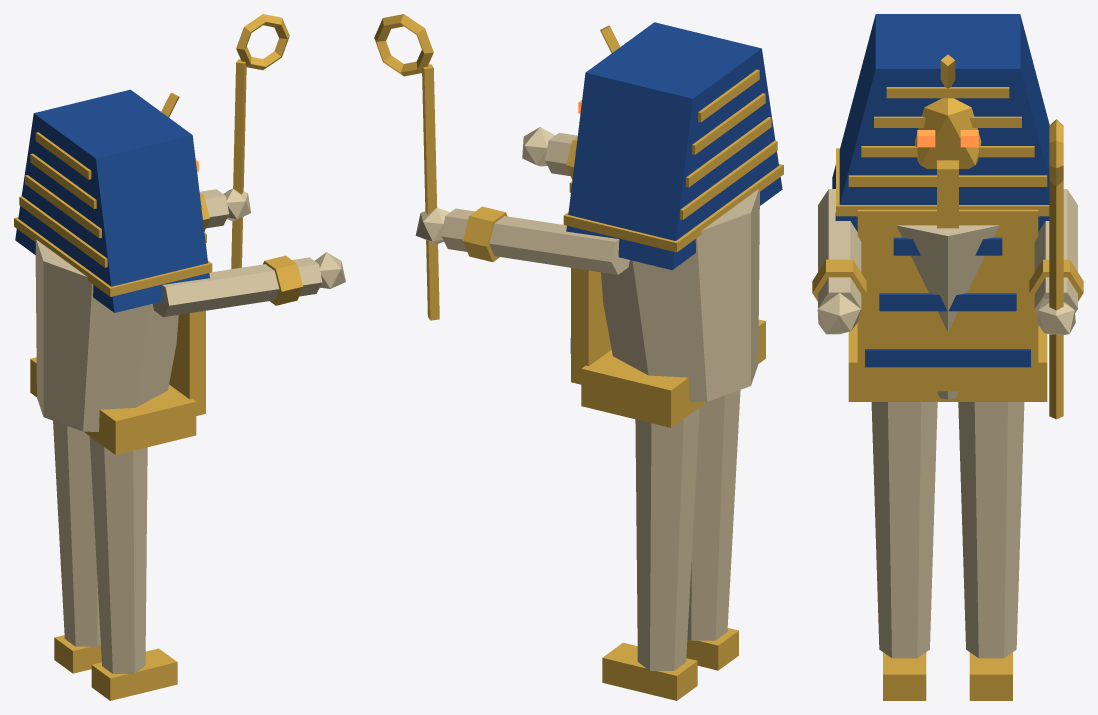
File: farao.glb
3 views of the same model, side by side, from view 1: azimuth 30°, elevation 25°; view 2: azimuth 150°, elevation 25°; view 3: azimuth 270°, elevation 25° (orthographic). The views are drawn at different scales.
Parts seen in each view (by area): view 1: Kropp, BenH, BenV, ArmH, ArmV; view 2: Kropp, BenV, ArmV, BenH, ArmH; view 3: Kropp, BenH, BenV, ArmV, ArmH.
Part boxes in pixels (left/top/right/bottom): Kropp: left=14, top=89, right=212, bottom=454; BenH: left=89, top=436, right=177, bottom=700; BenV: left=53, top=421, right=101, bottom=673; ArmH: left=153, top=252, right=345, bottom=317; ArmV: left=199, top=14, right=289, bottom=269; Kropp: left=563, top=22, right=783, bottom=427; BenV: left=602, top=407, right=699, bottom=700; ArmV: left=374, top=14, right=629, bottom=320; BenH: left=686, top=390, right=740, bottom=670; ArmH: left=522, top=127, right=577, bottom=179; Kropp: left=832, top=14, right=1049, bottom=401; BenH: left=871, top=402, right=937, bottom=700; BenV: left=958, top=402, right=1024, bottom=700; ArmV: left=1029, top=119, right=1083, bottom=419; ArmH: left=812, top=189, right=866, bottom=334.
Bounding box in the file's own units: 1.09 × 2.05 × 0.75.
